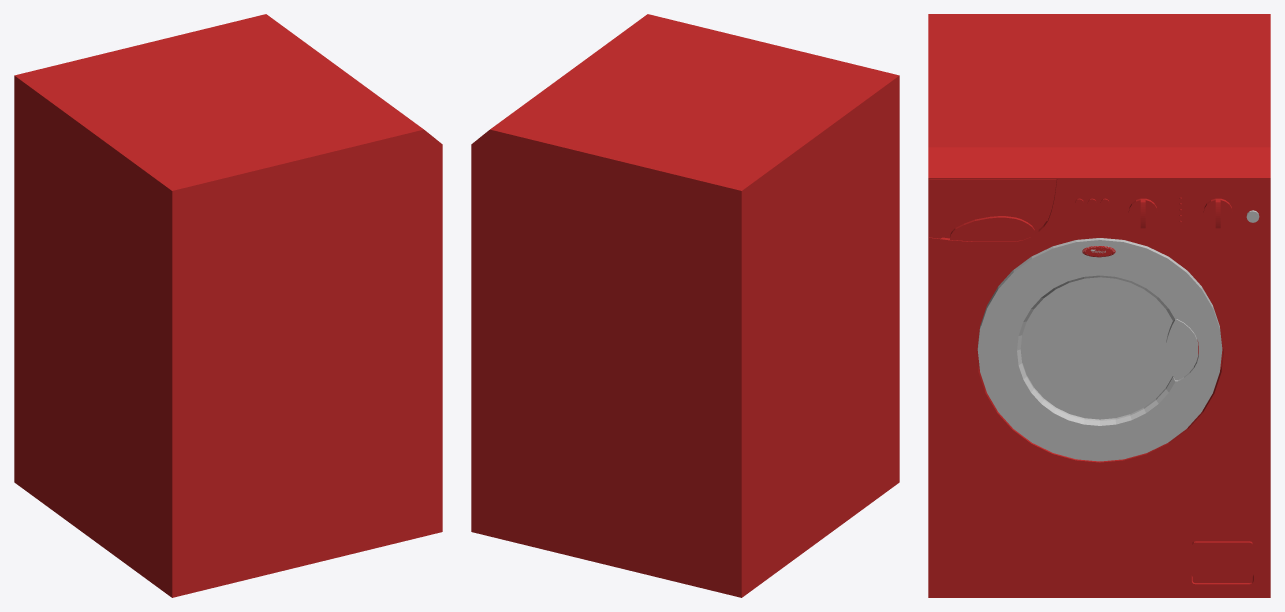
3 renders of one model, left to right at view 1: azimuth 30°, elevation 25°; view 2: azimuth 150°, elevation 25°; view 3: azimuth 270°, elevation 25°, orthographic. The views are drawn at different scales.
Parts seen in each view (by area): view 1: mesh30.001_mesh30-geometry; view 2: mesh30.001_mesh30-geometry; view 3: mesh30.001_mesh30-geometry, mesh14.001_mesh14-geometry, mesh9.001_mesh9-geometry, mesh1.001_mesh1-geometry, mesh11.001_mesh11-geometry, mesh36.001_mesh36-geometry, mesh18.001_mesh18-geometry, mesh27.001_mesh27-geometry.
Boxes of the visible parts, x1,y1,x2,y2 form: mesh30.001_mesh30-geometry: (14,14,442,597); mesh30.001_mesh30-geometry: (471,14,899,597); mesh30.001_mesh30-geometry: (928,14,1270,597); mesh14.001_mesh14-geometry: (977,238,1222,461); mesh9.001_mesh9-geometry: (1020,277,1172,419); mesh1.001_mesh1-geometry: (929,179,1056,241); mesh11.001_mesh11-geometry: (1192,541,1252,582); mesh36.001_mesh36-geometry: (1166,319,1198,380); mesh18.001_mesh18-geometry: (1203,198,1232,228); mesh27.001_mesh27-geometry: (1128,198,1157,228).
Size of the model in its own units: 0.506 by 0.7056 by 0.4961.
